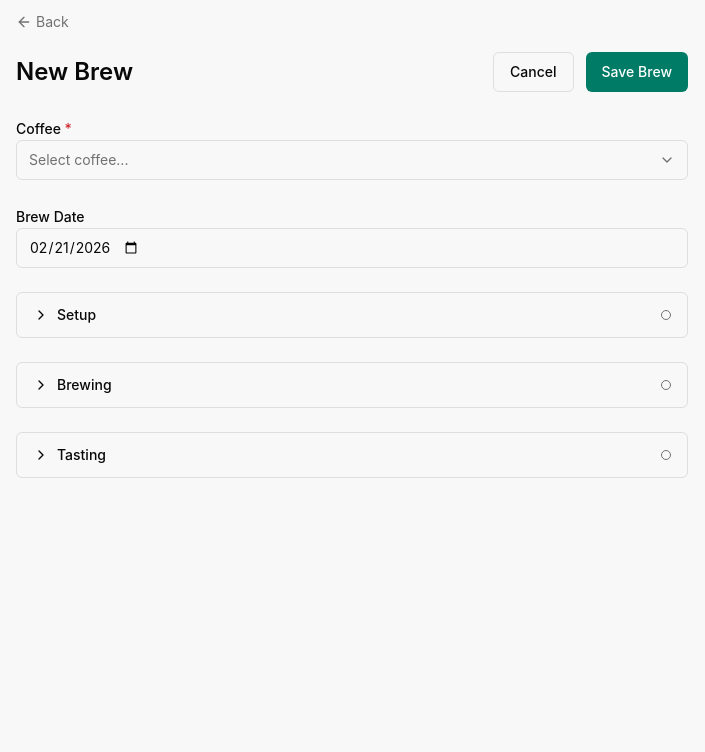
Test: BrewFormPage › expands Setup section when clicked
Expected: the heading "New Brew" is shown, [16,56,133,88]
Click the button "Setup" at point(77, 314), box [17,293,687,337]
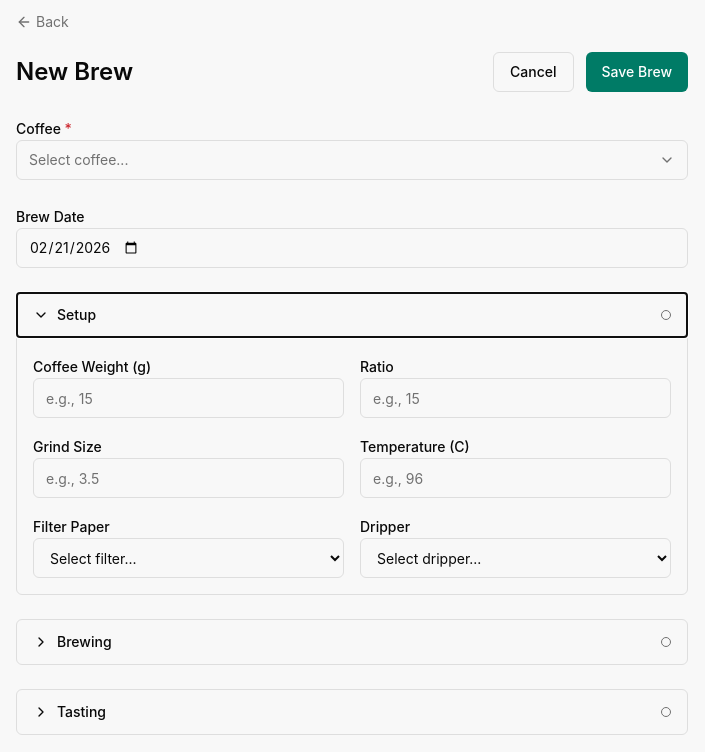
Expected: the number field labelled "Coffee Weight (g)" is shown, [33,378,344,418]
Expected: the number field labelled "Ratio" is shown, [360,378,671,418]
Expected: the number field labelled "Grind Size" is shown, [33,458,344,498]
